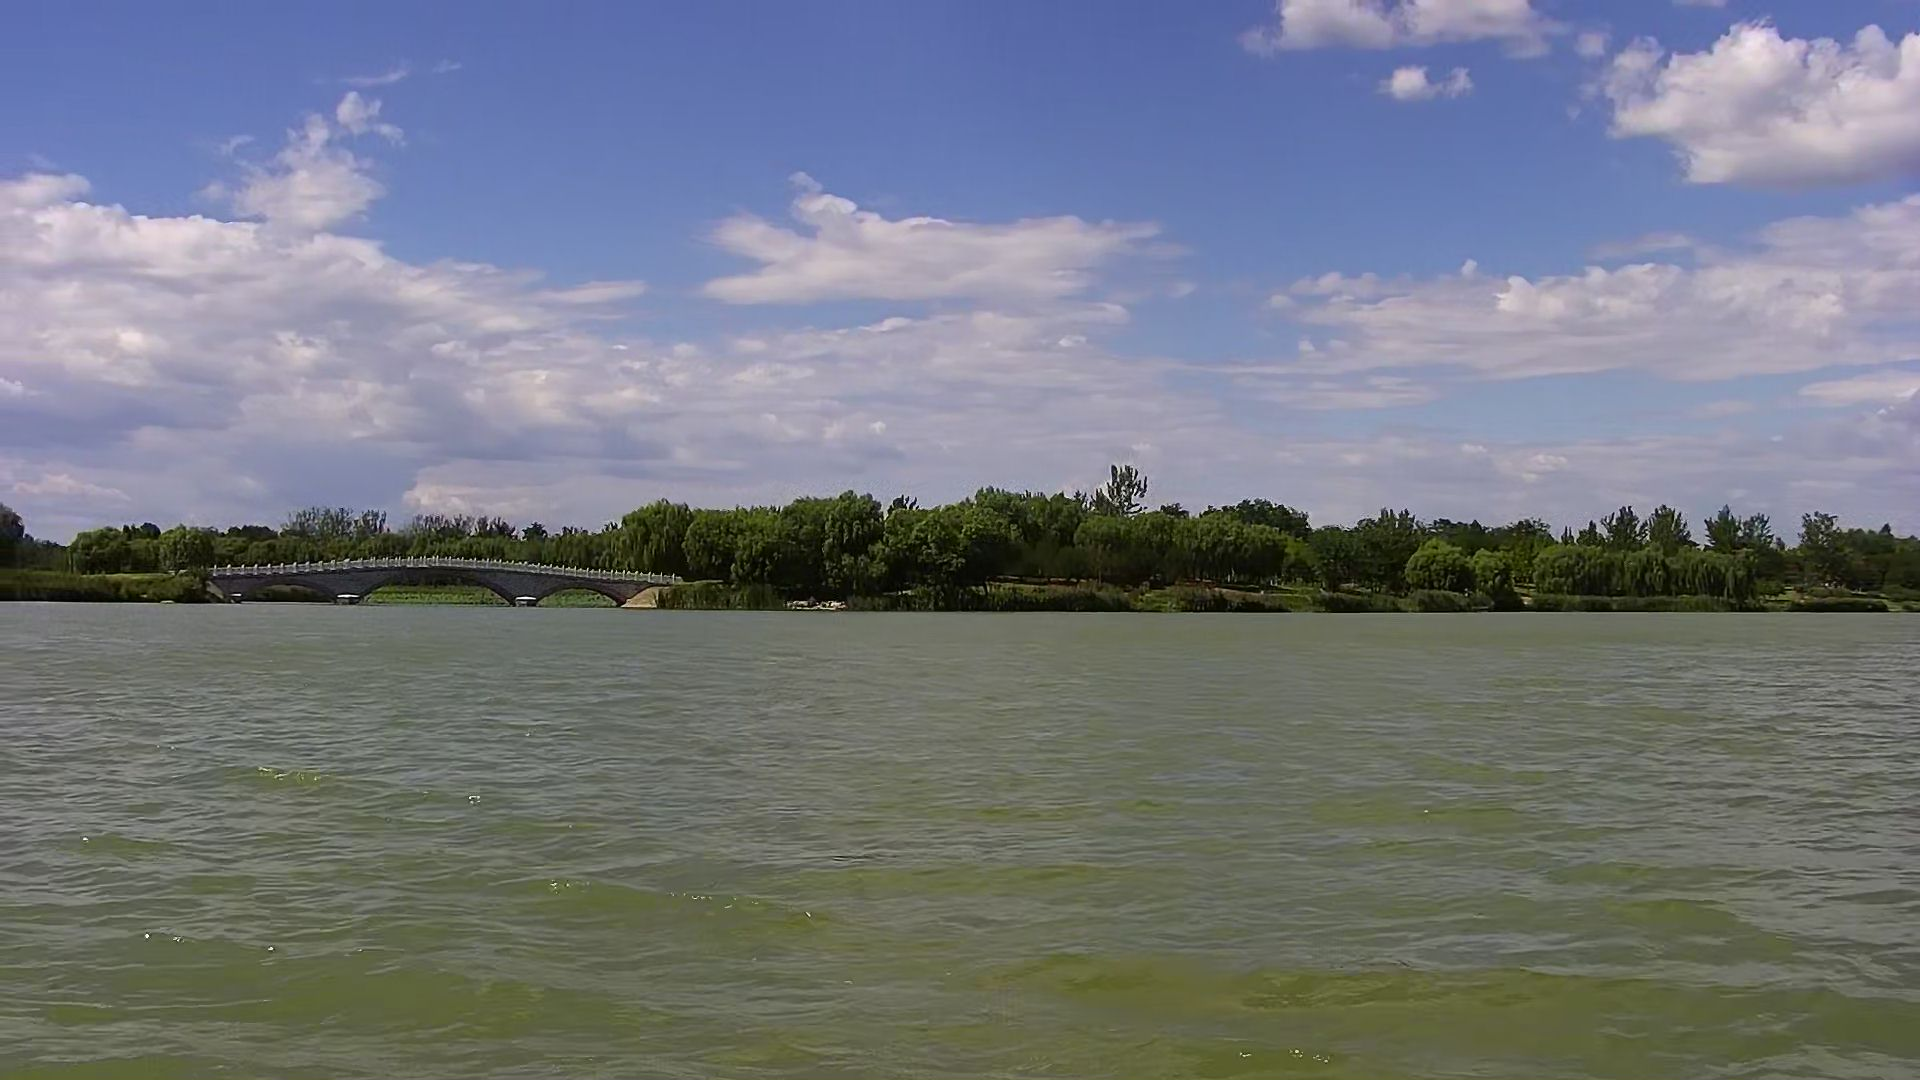bridge: (193, 538, 694, 618)
